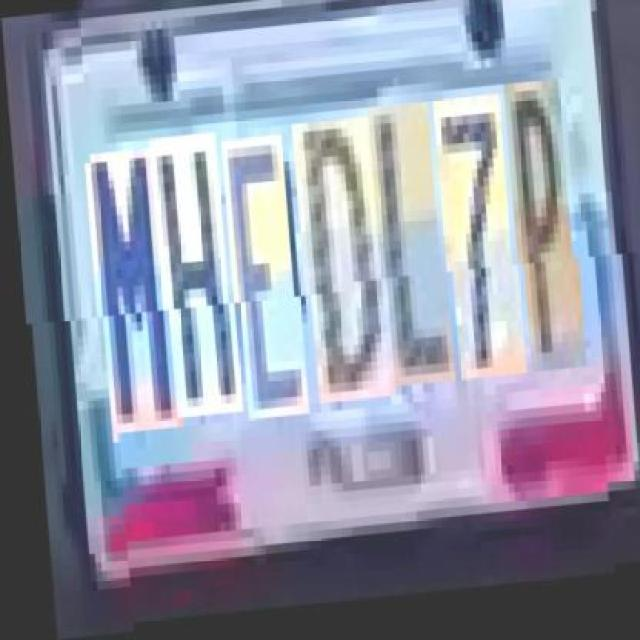7: (436, 104, 519, 388)
d: (294, 123, 388, 409)
e: (224, 140, 302, 425)
h: (152, 136, 235, 421)
l: (370, 110, 448, 395)
m: (87, 151, 176, 435)
p: (506, 89, 580, 383)
